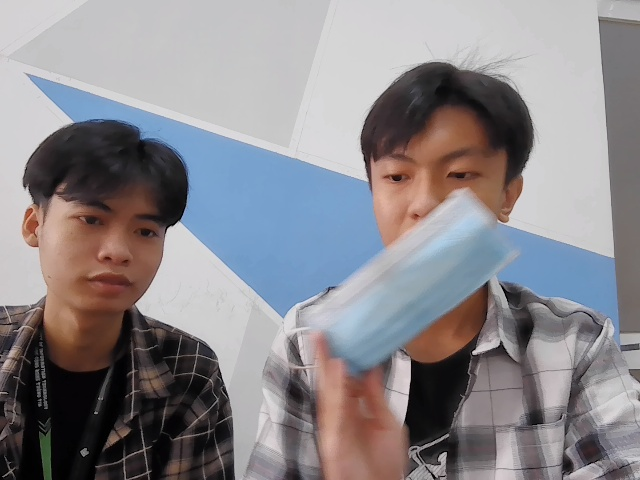human: (31, 125, 186, 323), (366, 69, 516, 261)
mask: (305, 200, 517, 385)
